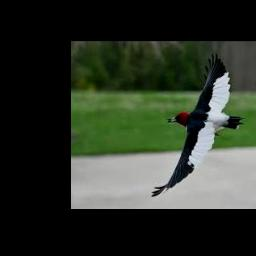Woodpecker: (152, 53, 244, 197)
